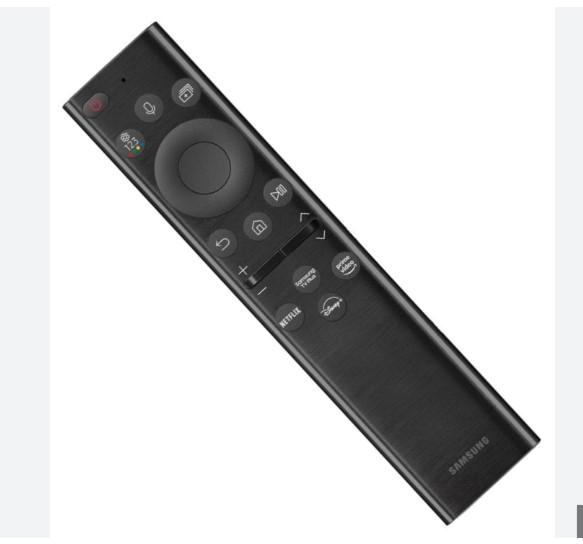Remote control: (63, 21, 541, 527)
